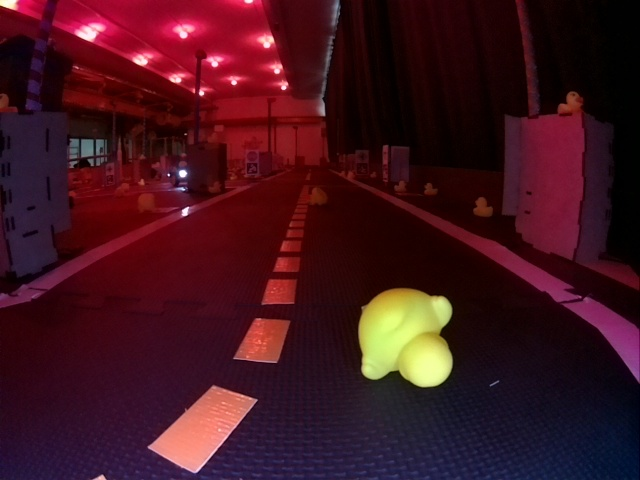Duckie: (358, 289, 451, 386), (558, 91, 583, 113), (473, 198, 493, 217), (138, 193, 156, 212), (307, 187, 327, 204), (208, 181, 221, 193), (425, 183, 437, 195), (395, 181, 406, 191)
QR code: (246, 162, 258, 174)
